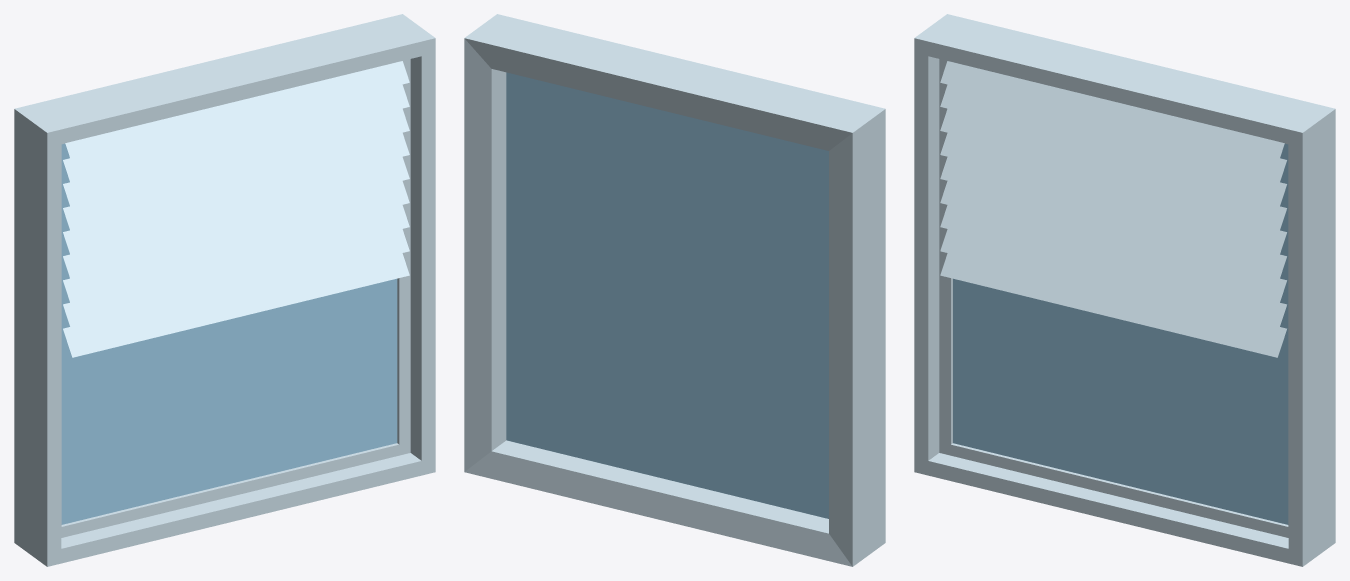
The model's file is window_029.glb.
3 views of the same model, side by side, from view 1: azimuth 30°, elevation 25°; view 2: azimuth 150°, elevation 25°; view 3: azimuth 330°, elevation 25° (orthographic).
Visible parts, largest first — view 1: window_029; view 2: window_029; view 3: window_029.
Boxes of the visible parts, left/top/right/bottom form: window_029: left=14, top=14, right=435, bottom=566; window_029: left=464, top=14, right=885, bottom=566; window_029: left=914, top=14, right=1335, bottom=566.
Bounding box in the file's own units: 1.76 × 1.88 × 0.2593.
Materials: 1 (1 with a texture image).
